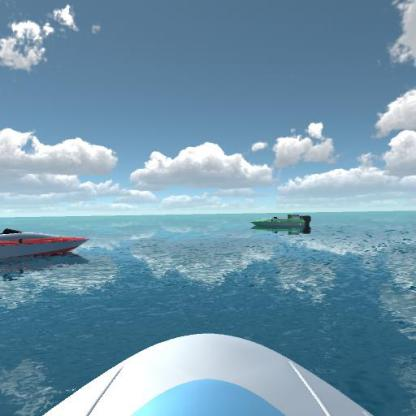usv0: (248, 209, 314, 240)
usv3: (0, 221, 93, 272)
